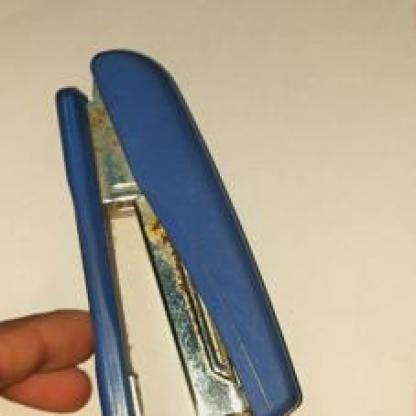stapler: (55, 33, 315, 414)
